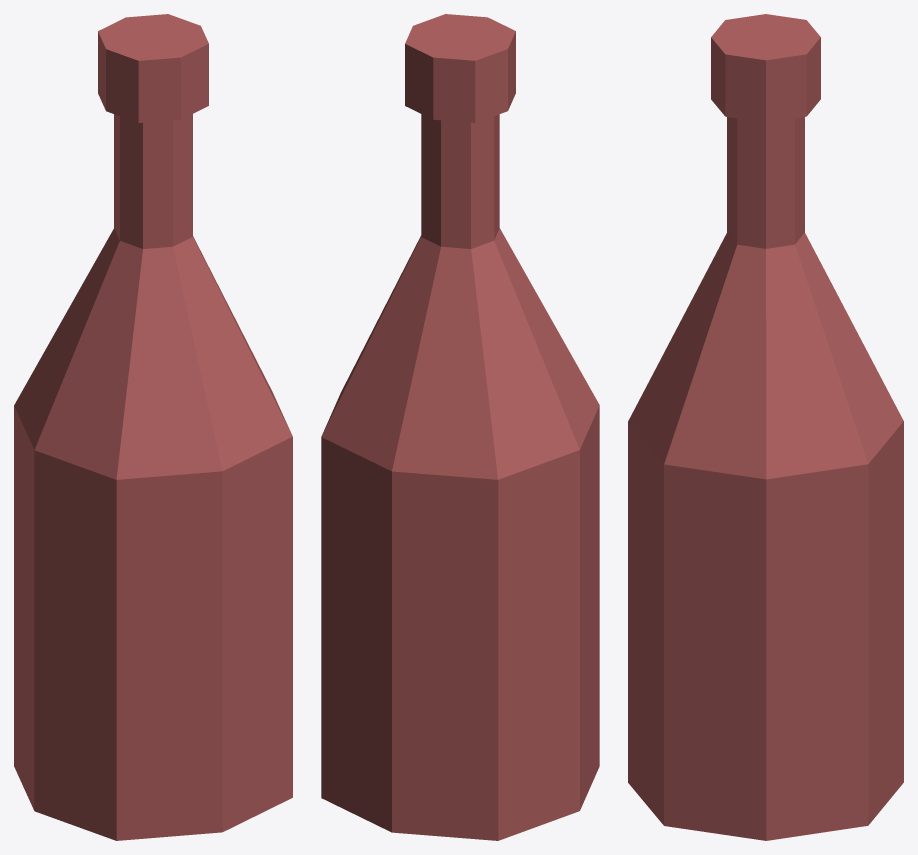
The model's file is Kitchen_Bottle.fbx.
The picture shows the model from 3 angles, left to right: view 1: azimuth 30°, elevation 25°; view 2: azimuth 150°, elevation 25°; view 3: azimuth 270°, elevation 25°; orthographic projection.
Parts seen in each view (by area): view 1: Kitchen_Bottle; view 2: Kitchen_Bottle; view 3: Kitchen_Bottle.
Part boxes in pixels (<box>): Kitchen_Bottle: <box>14,14,292,840</box>; Kitchen_Bottle: <box>321,14,599,840</box>; Kitchen_Bottle: <box>628,14,903,840</box>.
Size of the model in its own units: 18.68 by 55.73 by 18.68.
